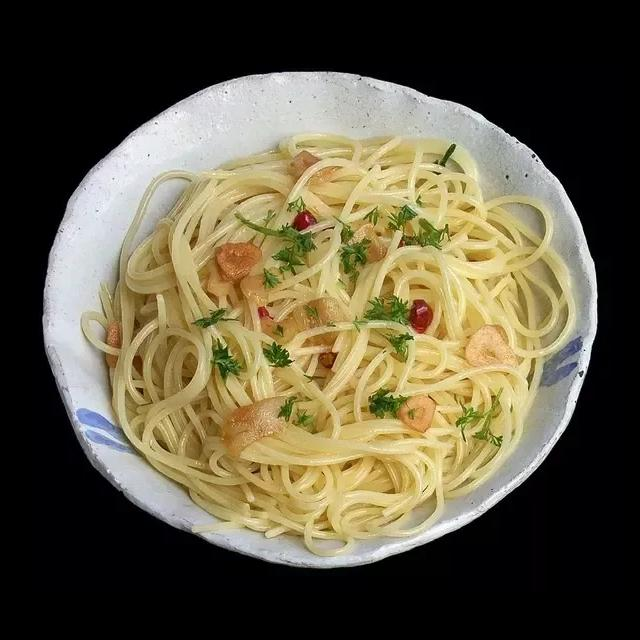noodles: (80, 133, 574, 558)
